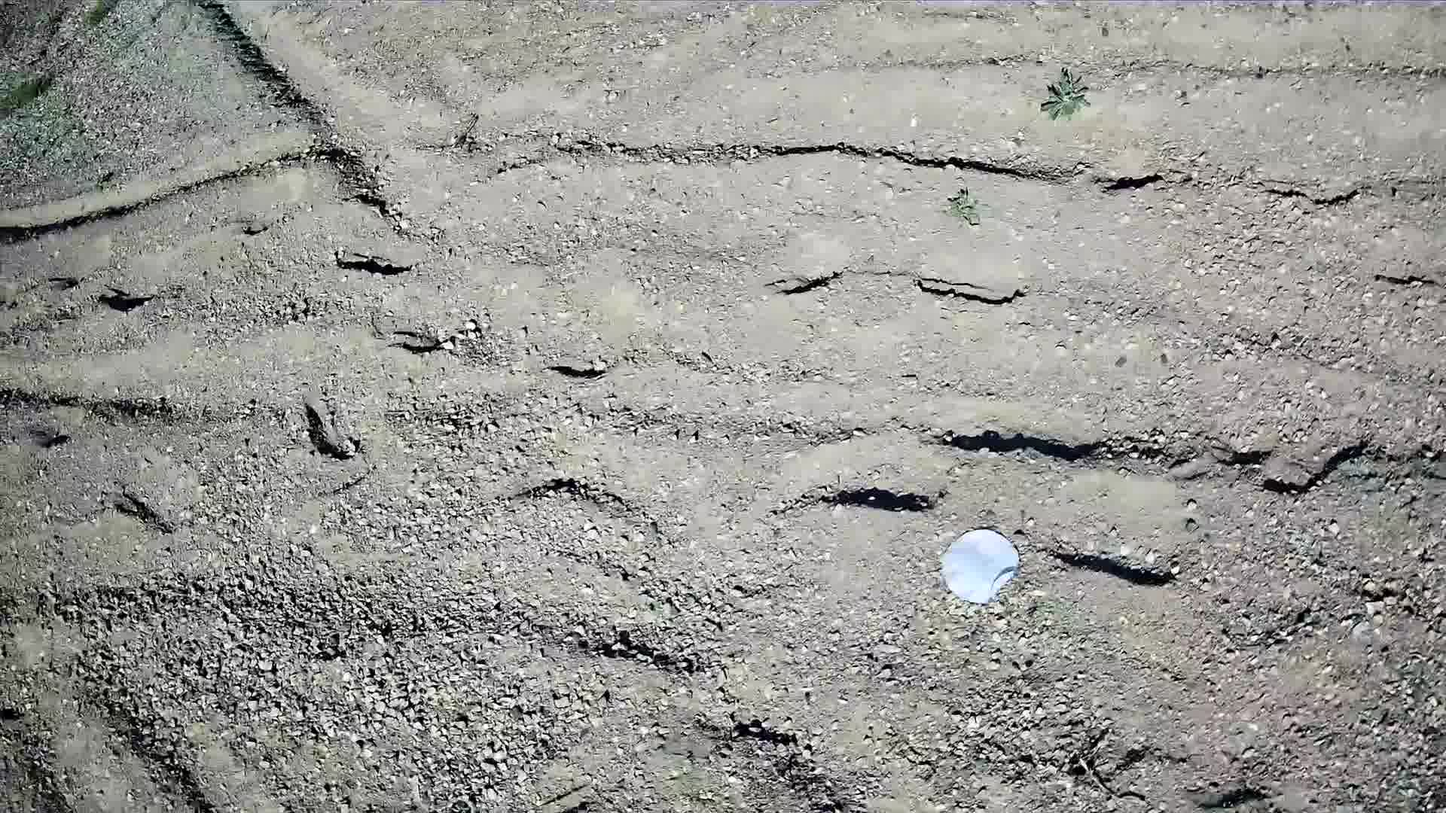Target: (941, 526, 1019, 602)
